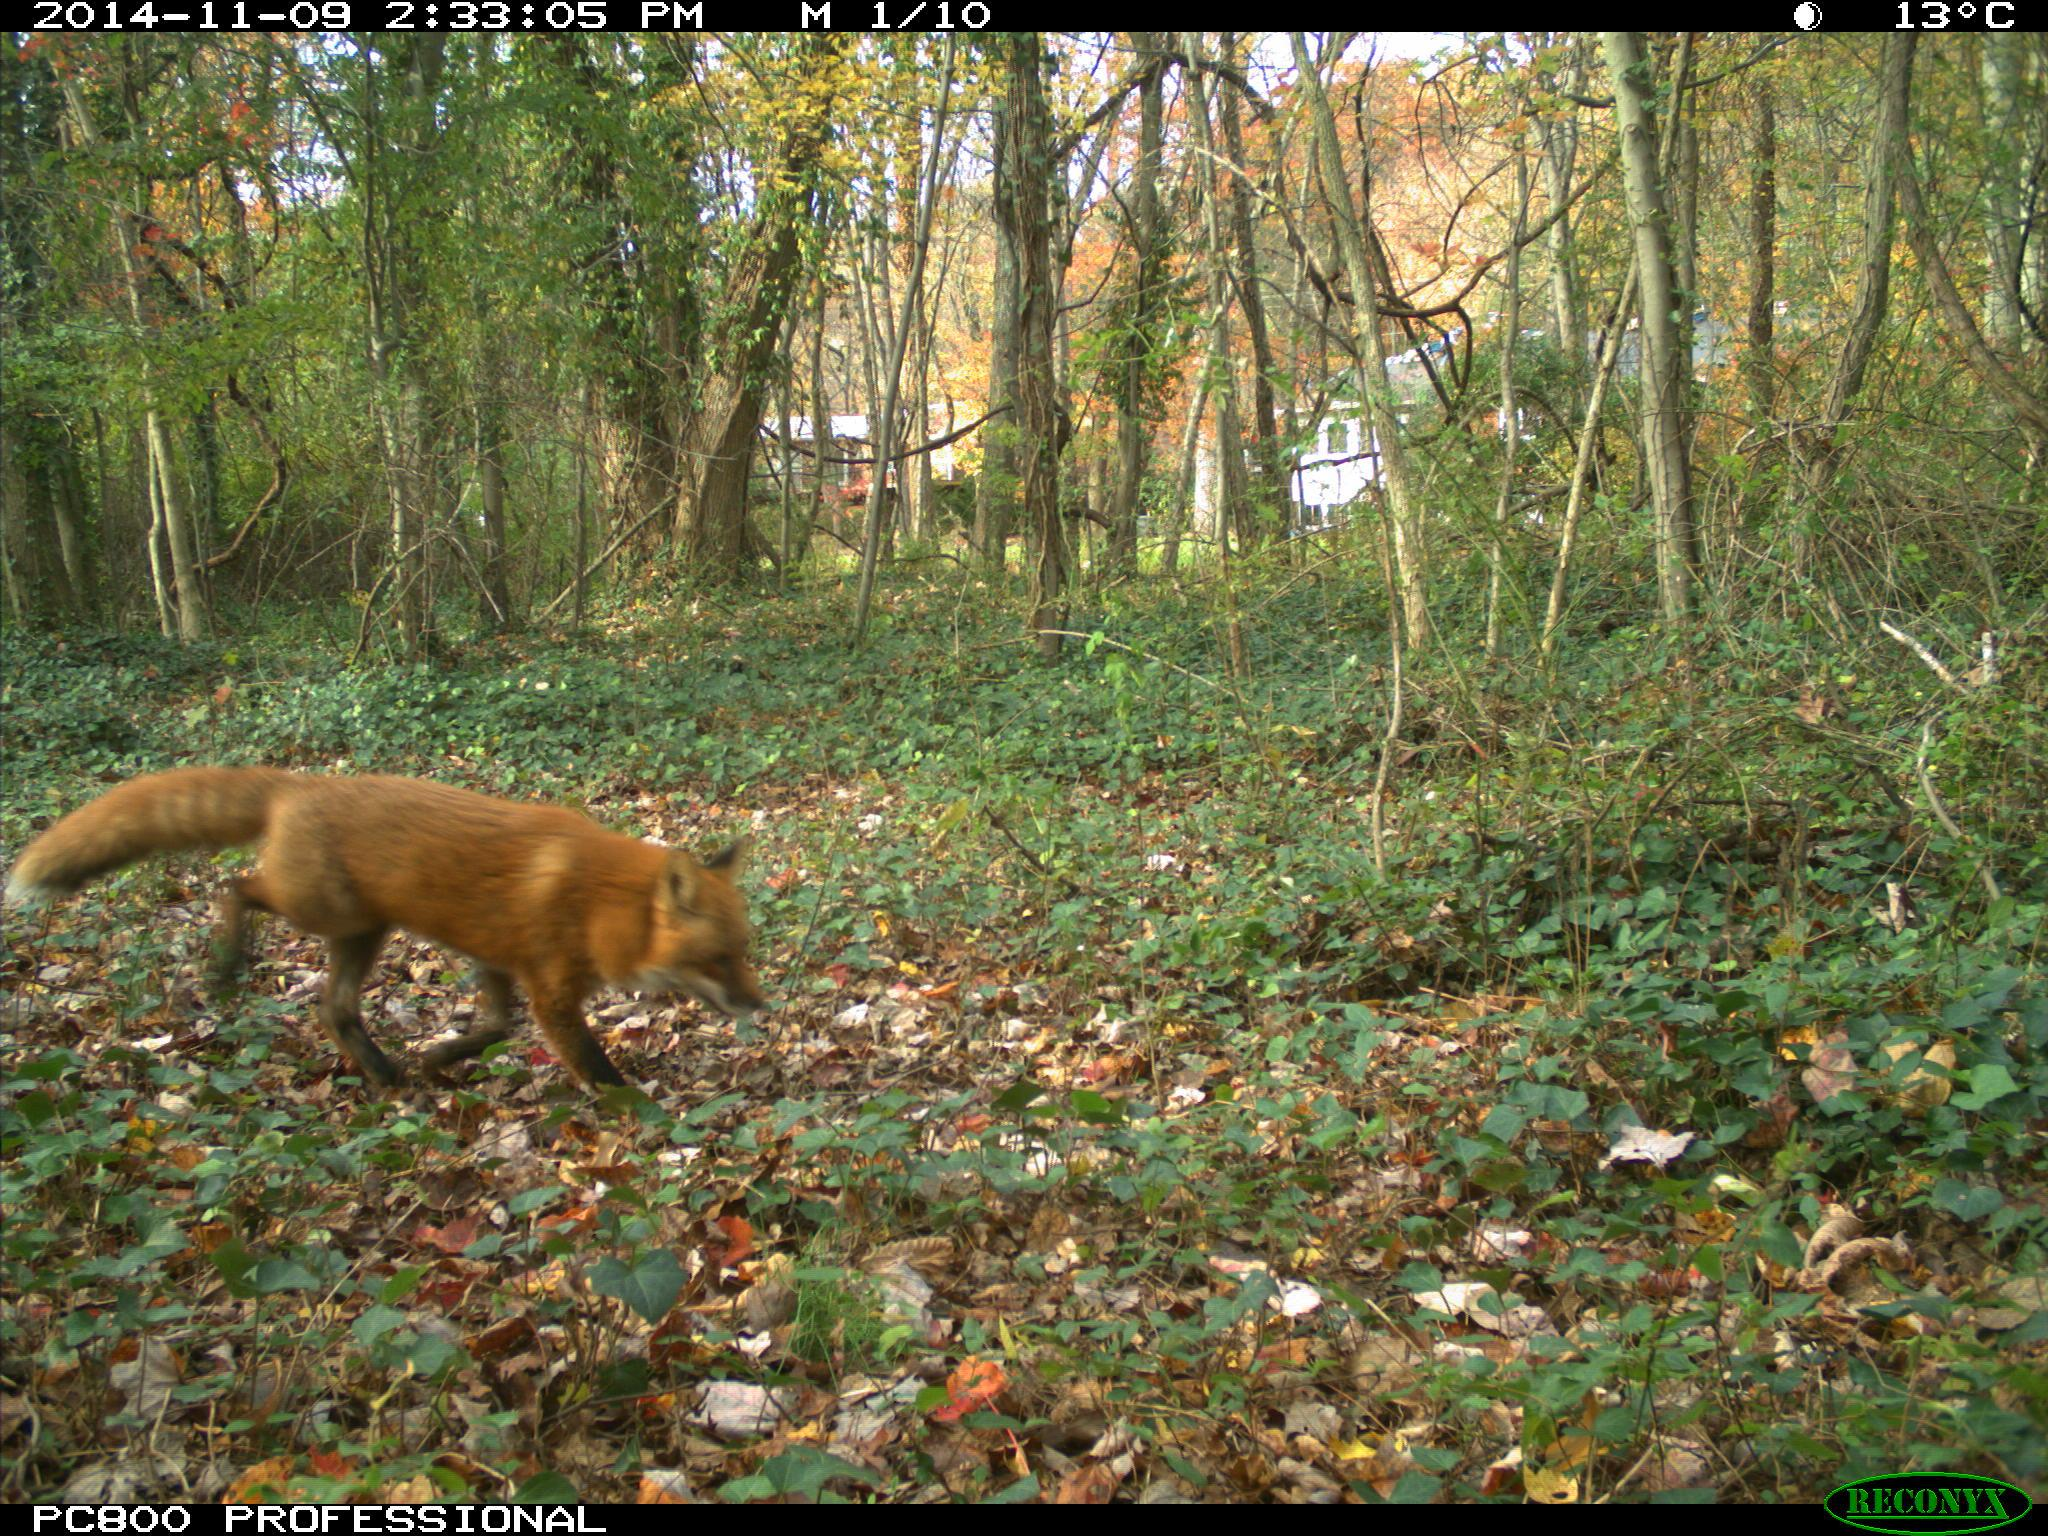Animal: (6, 763, 776, 1092)
